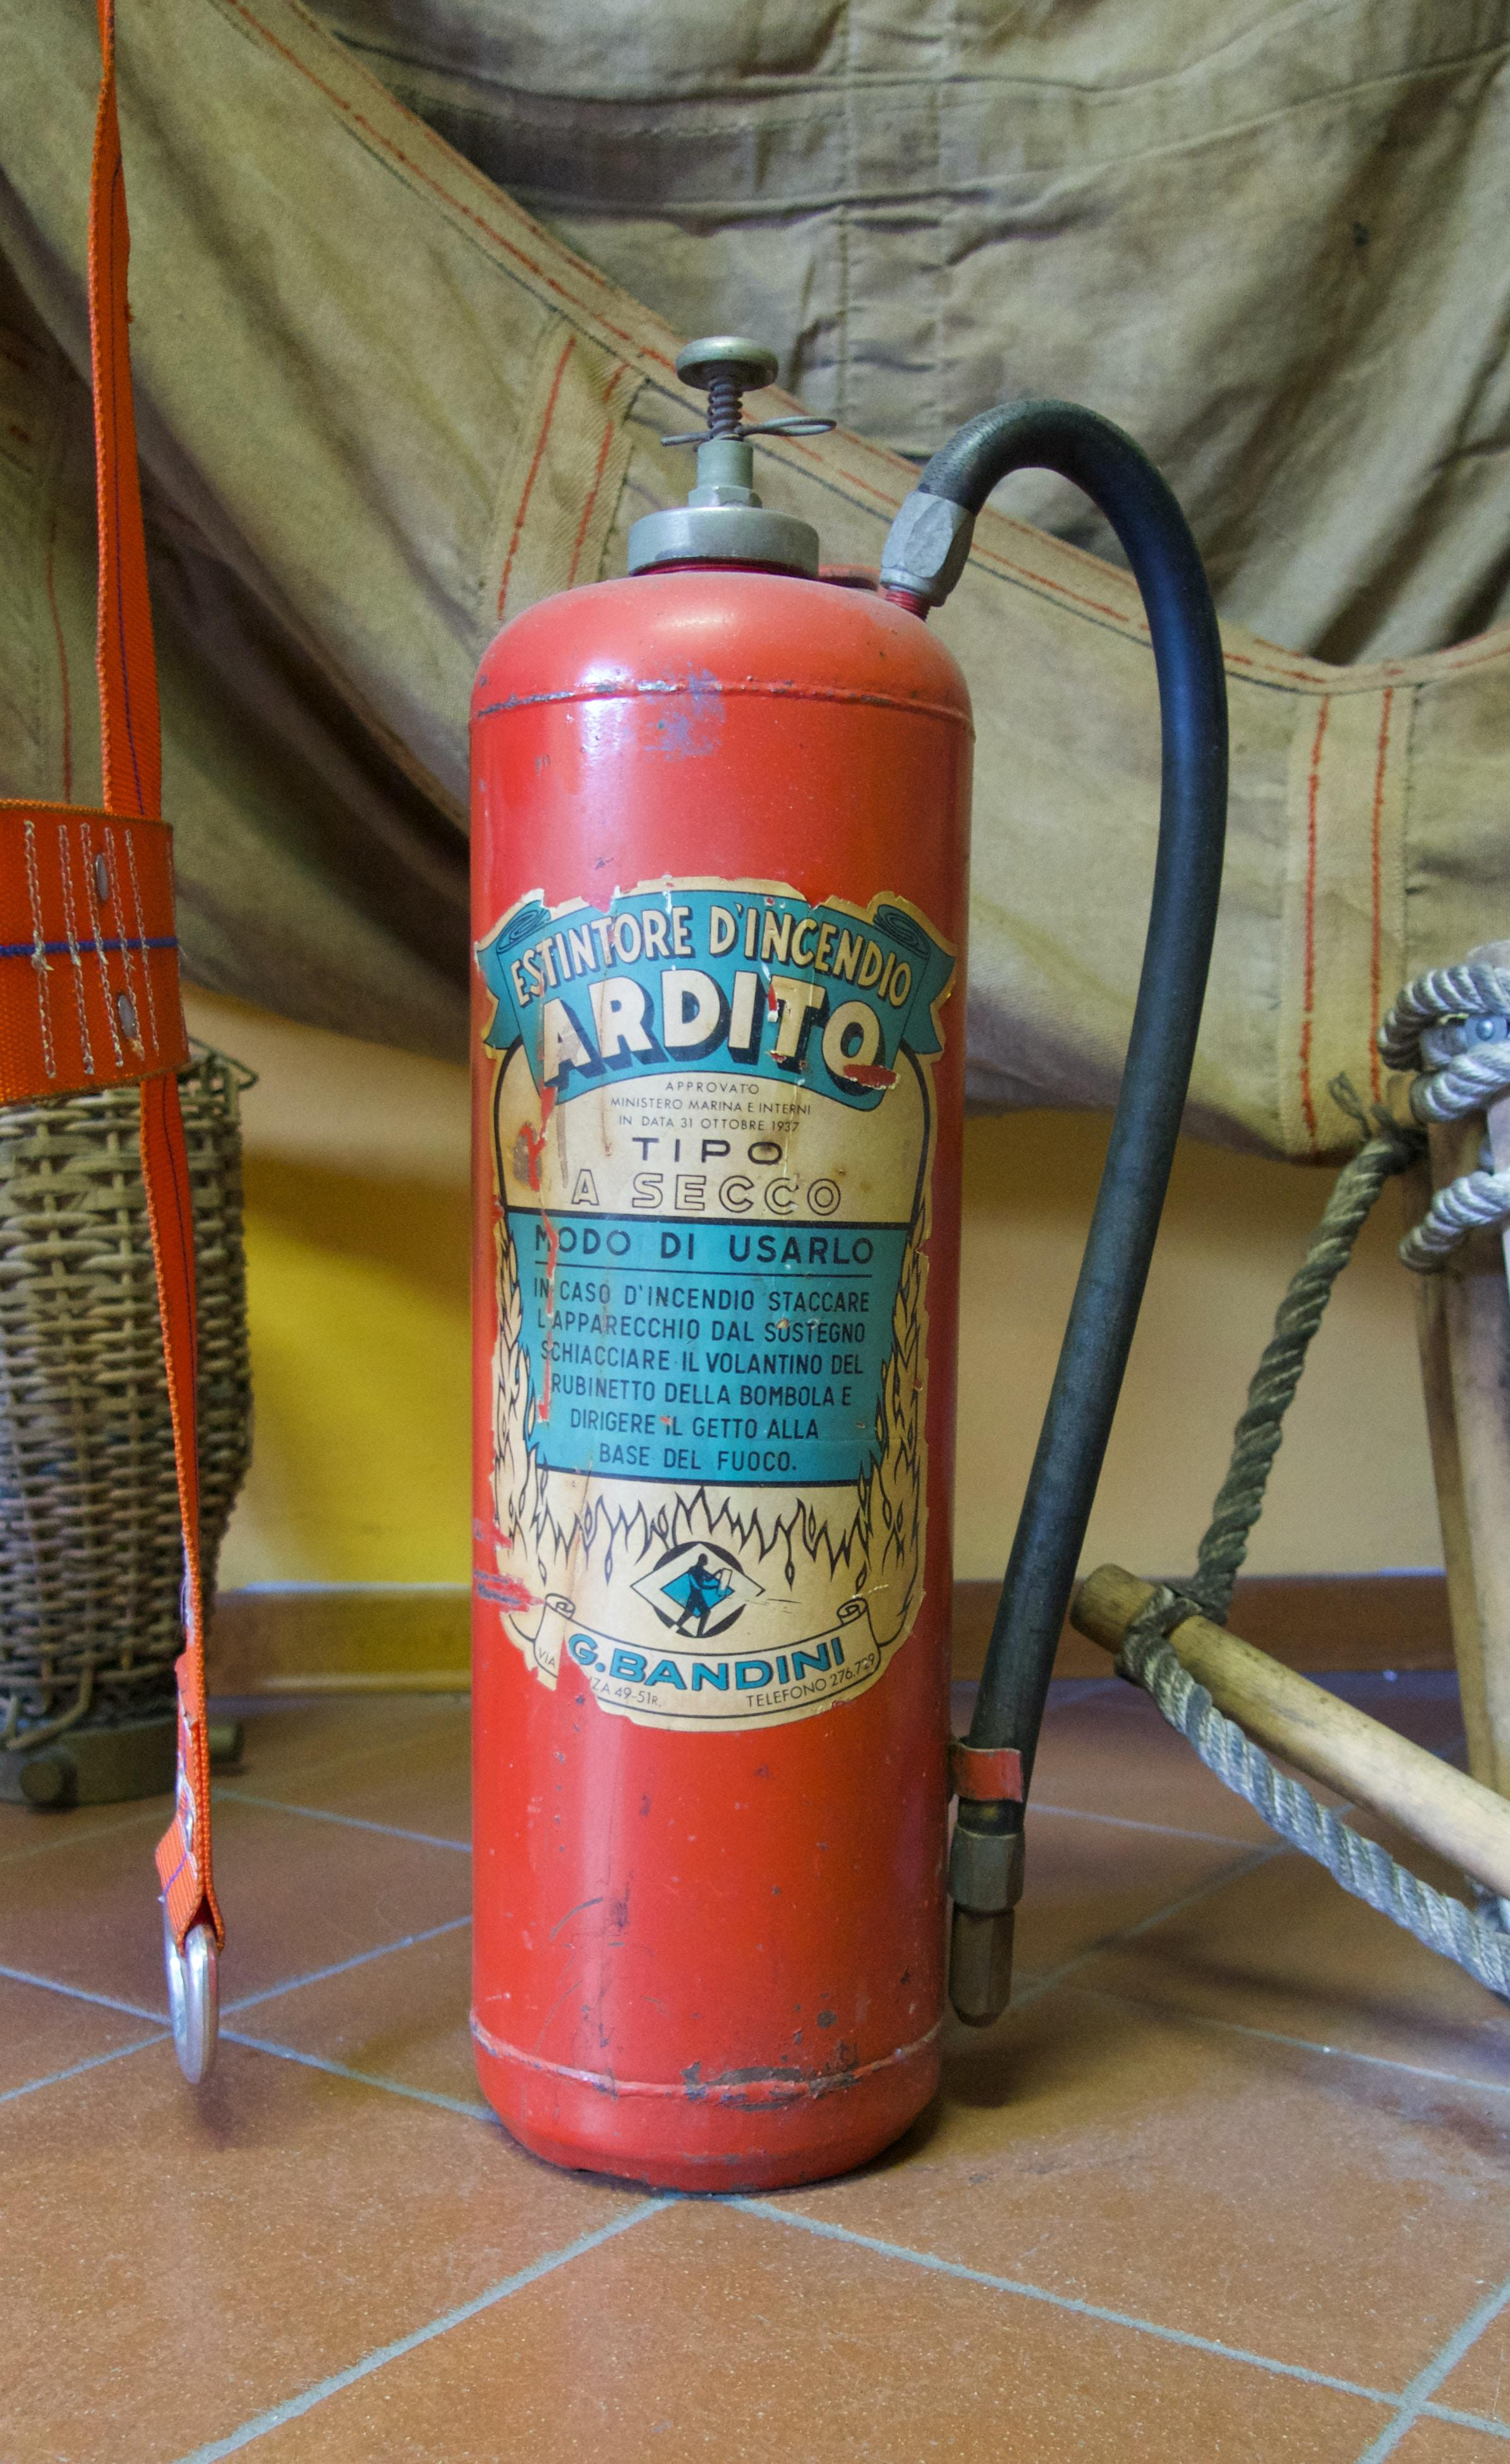Fire Extinguisher: (424, 246, 1276, 2262)
